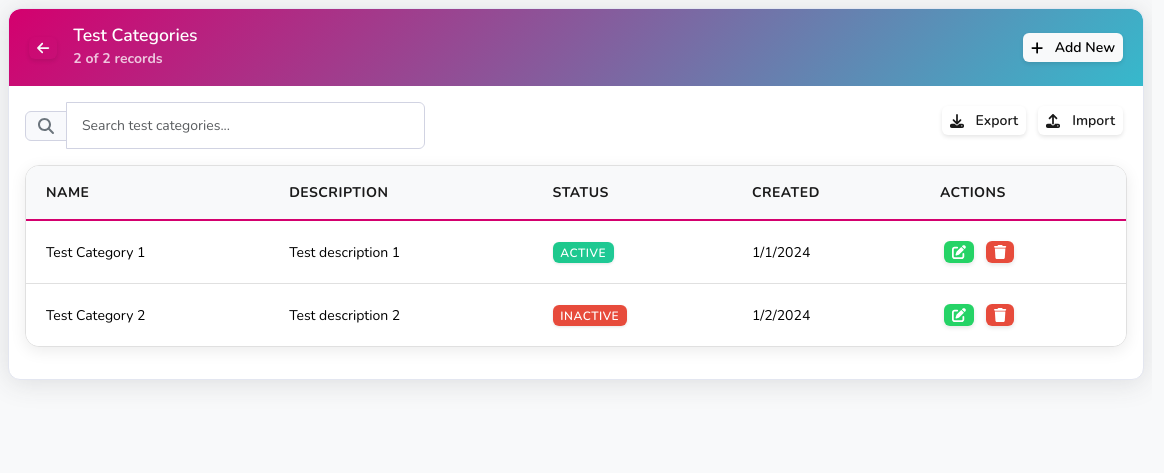
Test: MasterDataDetailView › filters data correctly with search
Type "nonexistent" into the field with placeholder "Search test categories..." at (246, 126), box [66,102,425,149]
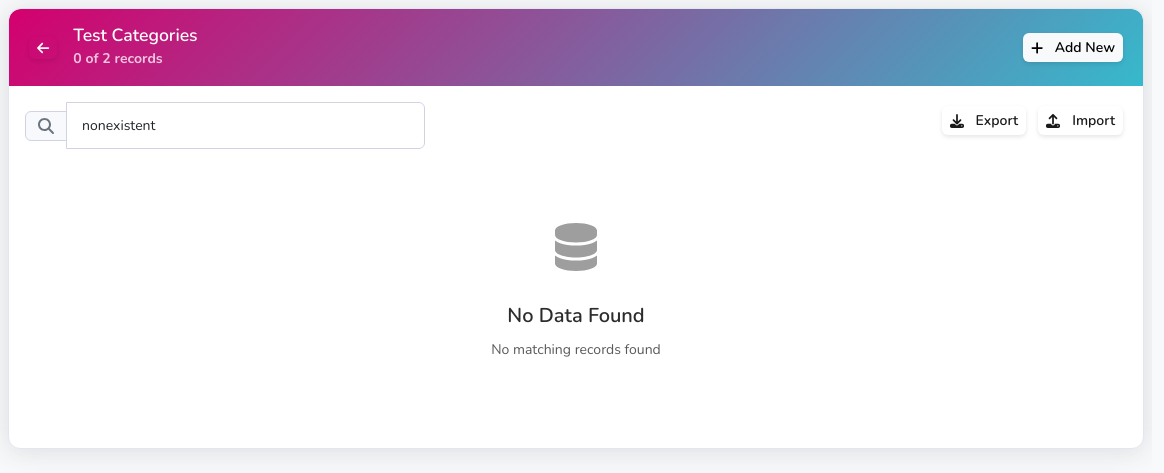
Result: the text "No matching records found" is shown at [491,340,661,359]
